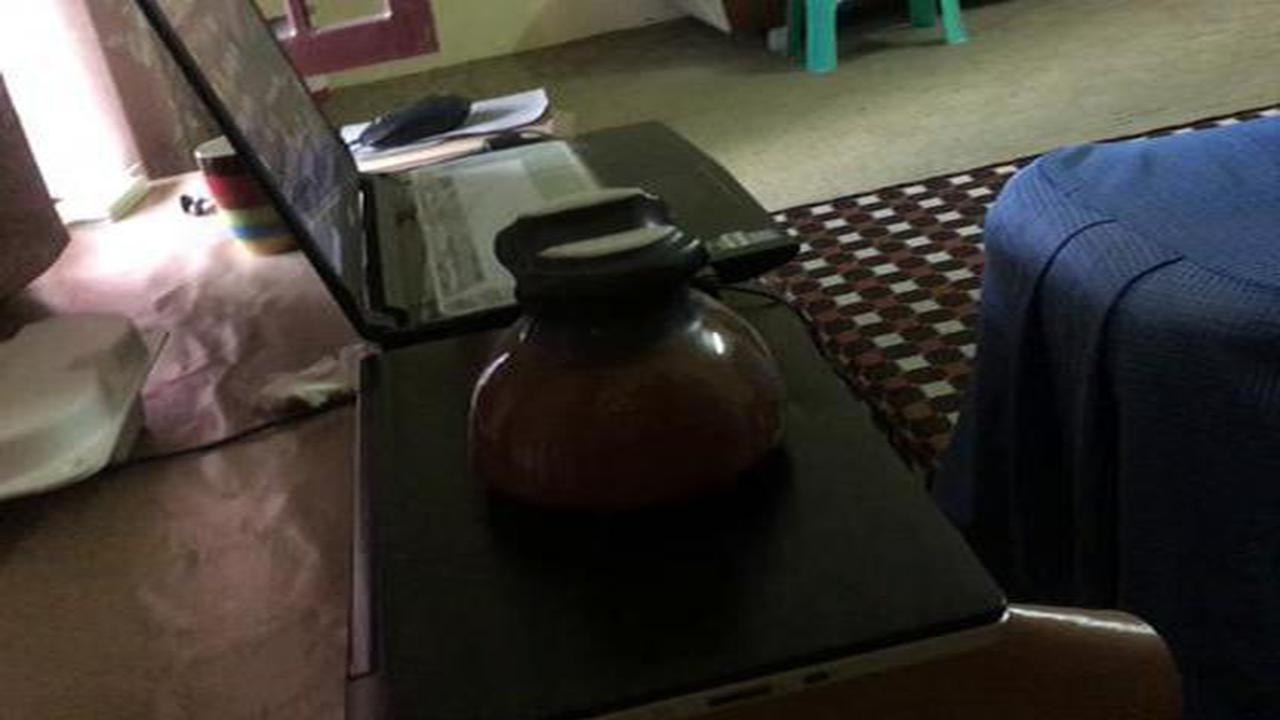insulator_pin: (443, 179, 807, 537)
